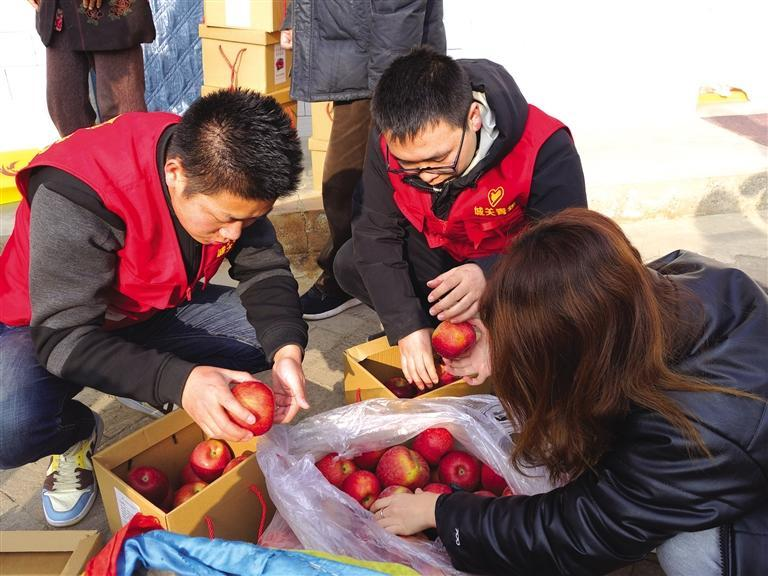apple: (224, 377, 272, 436), (376, 446, 427, 491), (126, 465, 170, 507), (188, 438, 234, 476), (439, 452, 480, 493), (411, 426, 454, 465), (430, 321, 476, 357)
